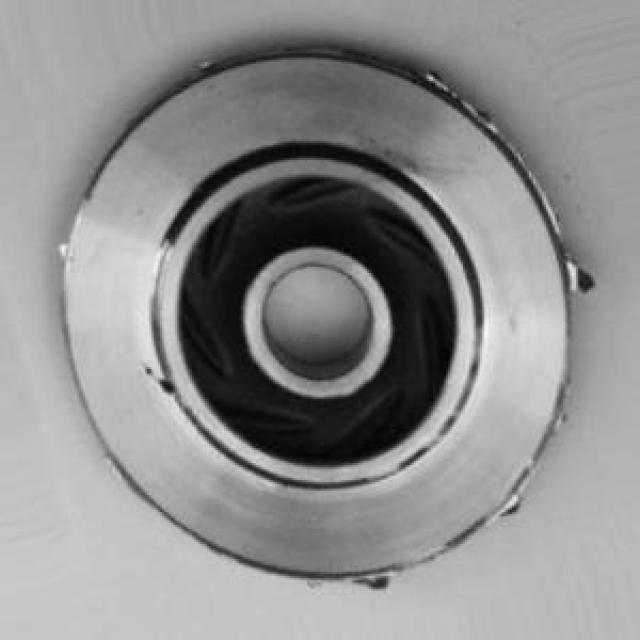Defect: (551, 250, 602, 300)
